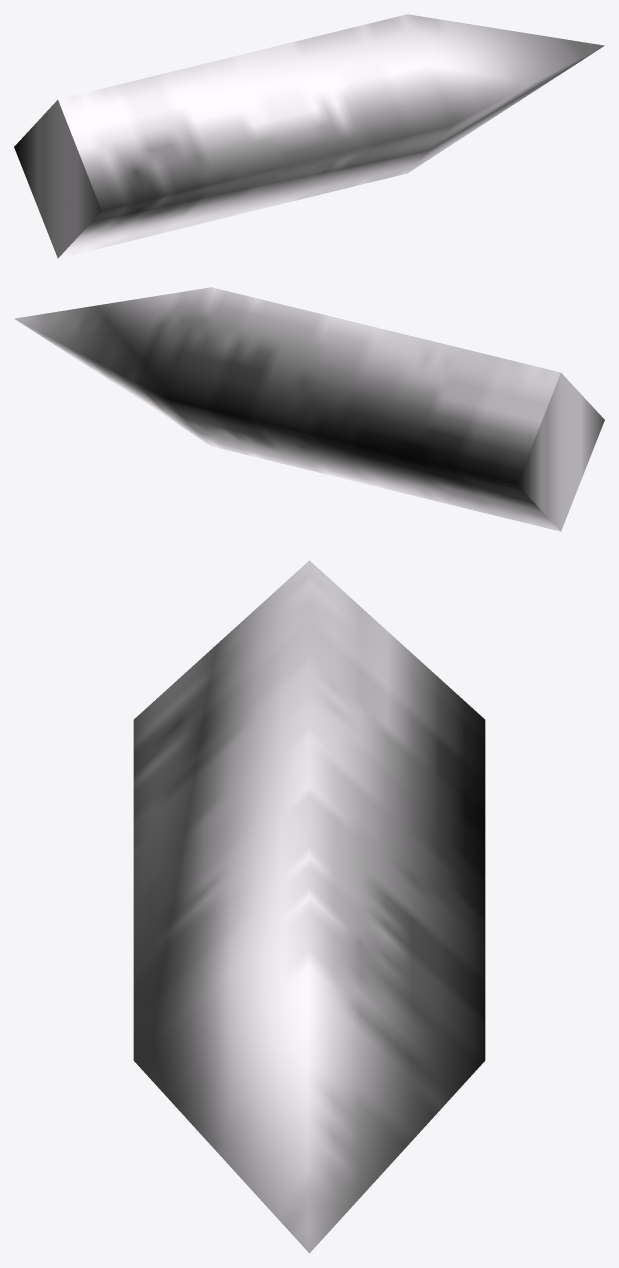
File: China - Armor - Battle Master Tank Shell - AvTankShel.glb
The picture shows the model from 3 angles, top to bottom: view 1: azimuth 30°, elevation 25°; view 2: azimuth 150°, elevation 25°; view 3: azimuth 270°, elevation 25°; orthographic projection. The views are drawn at different scales.
Visible parts, largest first — view 1: AVTANKSHEL; view 2: AVTANKSHEL; view 3: AVTANKSHEL.
Part boxes in pixels (x1,y1,x2,y2): AVTANKSHEL: (14, 14, 604, 258); AVTANKSHEL: (14, 287, 604, 531); AVTANKSHEL: (133, 560, 485, 1253).
Size of the model in its own units: 5.34 by 1.49 by 1.49.
Materials: 1 (1 with a texture image).
